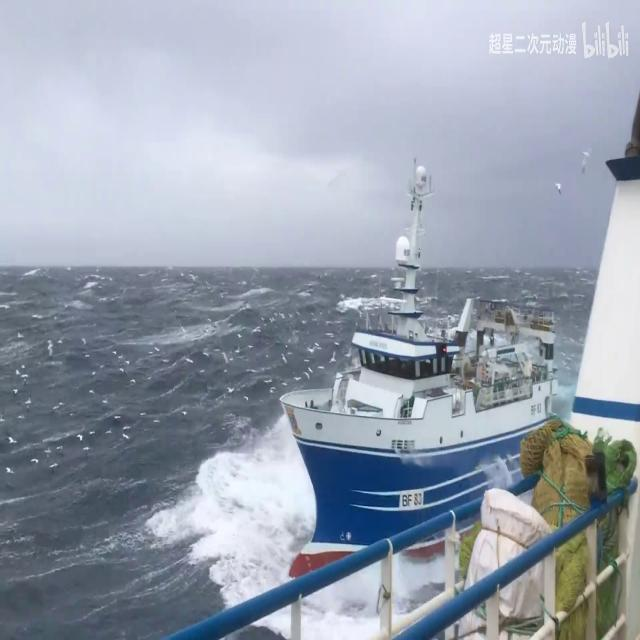houseboat: (279, 157, 559, 544)
